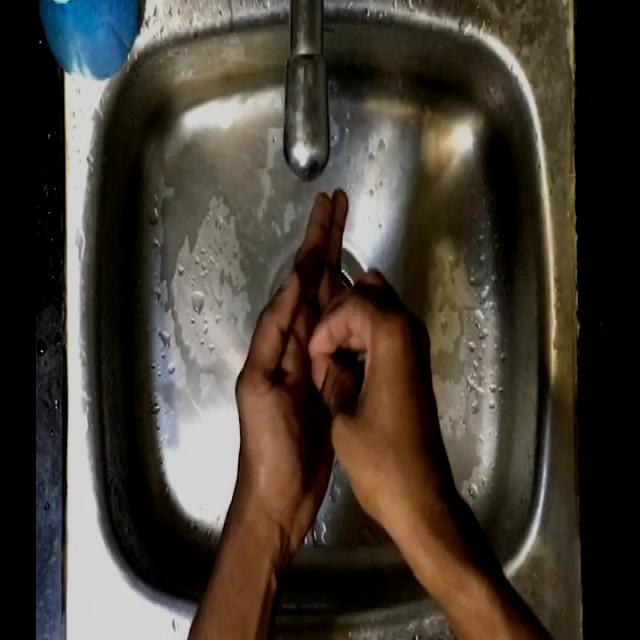step_6: (226, 182, 436, 516)
